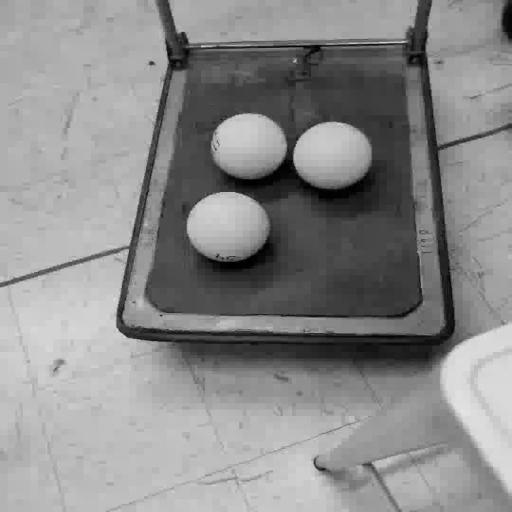fuel: (187, 192, 270, 262), (293, 122, 372, 189), (211, 114, 287, 180)
